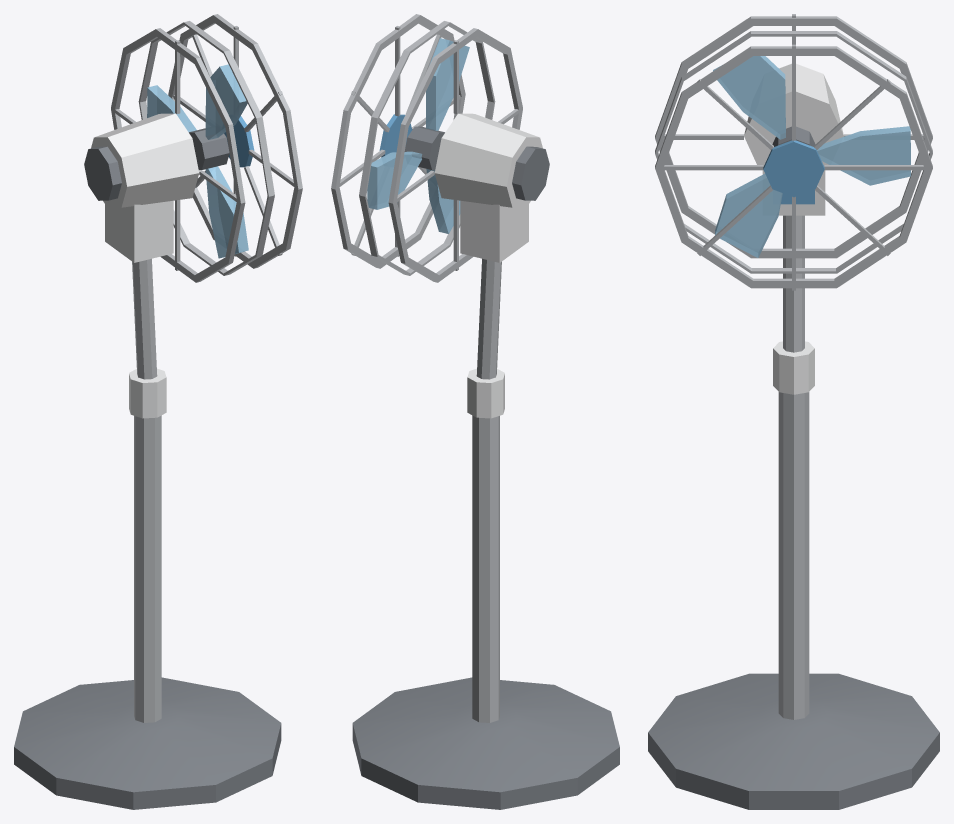
Rendered from ventilador_coluna.glb.
3 renders of one model, left to right at view 1: azimuth 30°, elevation 25°; view 2: azimuth 150°, elevation 25°; view 3: azimuth 270°, elevation 25°, orthographic. The views are drawn at different scales.
Parts seen in each view (by area): view 1: corpo, helice; view 2: corpo, helice; view 3: corpo, helice.
Boxes of the visible parts, x1=… form: corpo: x1=14, y1=14, x2=302, y2=809; helice: x1=147, y1=64, x2=248, y2=258; corpo: x1=331, y1=14, x2=619, y2=809; helice: x1=367, y1=38, x2=469, y2=233; corpo: x1=648, y1=14, x2=939, y2=809; helice: x1=713, y1=56, x2=910, y2=257.
Bounding box in the file's own units: 0.3994 × 1.19 × 0.42.
